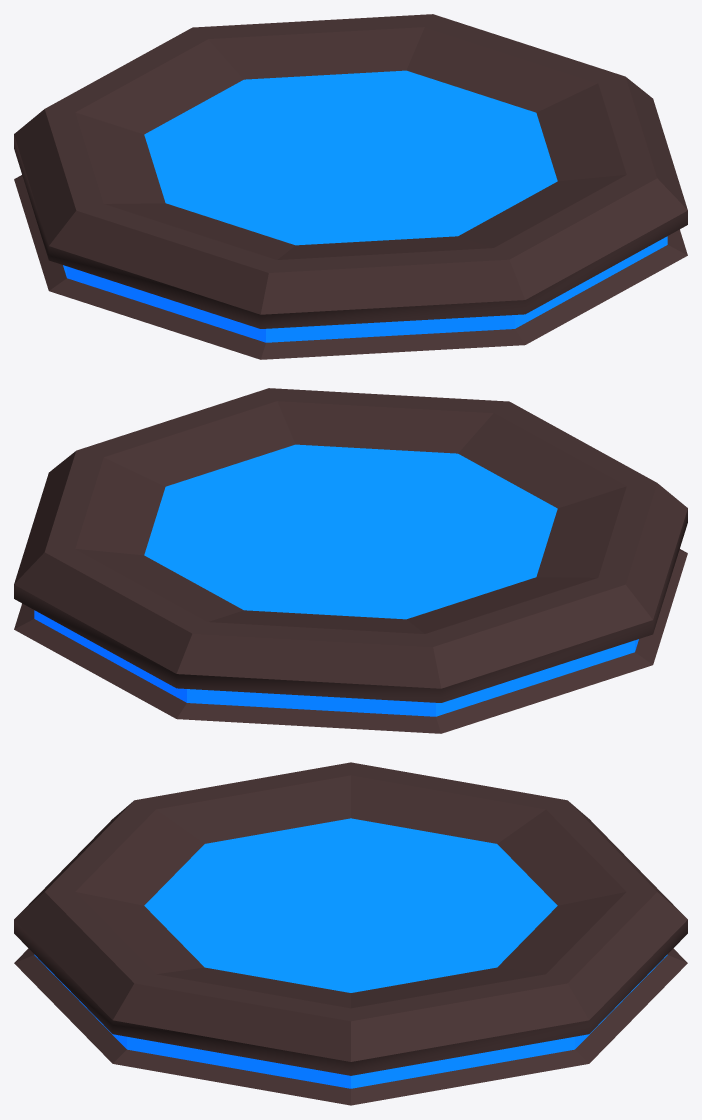
Rendered from tcg-deck-manager-prototype-1-pedistal.glb.
3 views of the same model, one above another, from view 1: azimuth 30°, elevation 25°; view 2: azimuth 150°, elevation 25°; view 3: azimuth 270°, elevation 25° (orthographic). The views are drawn at different scales.
Parts seen in each view (by area): view 1: card-character-display; view 2: card-character-display; view 3: card-character-display.
Boxes of the visible parts, left/top/right/bottom form: card-character-display: left=14, top=14, right=687, bottom=359; card-character-display: left=14, top=388, right=687, bottom=733; card-character-display: left=14, top=762, right=687, bottom=1105.
Bounding box in the file's own units: 0.7007 × 0.0818 × 0.7007.
